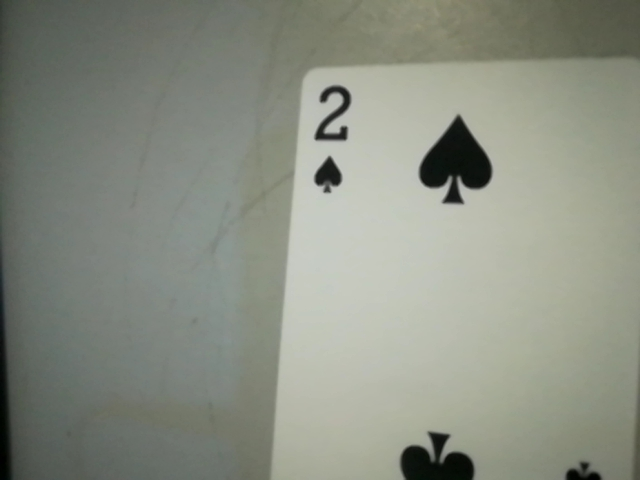ht 2: (300, 78, 365, 204)
